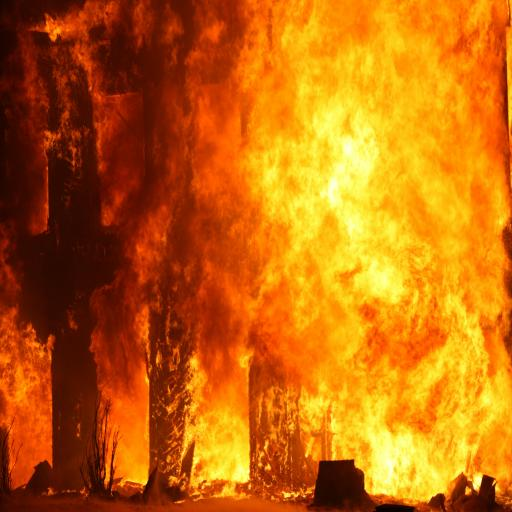buildingfire: (1, 3, 512, 512)
fire: (174, 0, 512, 499)
